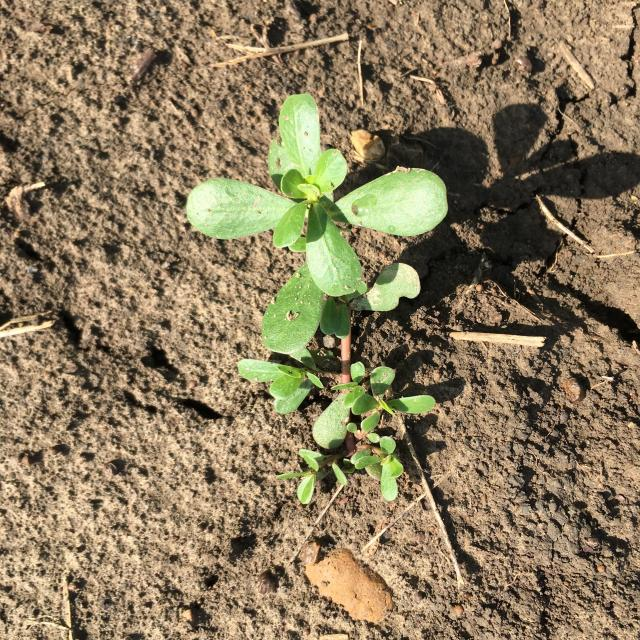Purslane: (186, 93, 448, 504)
